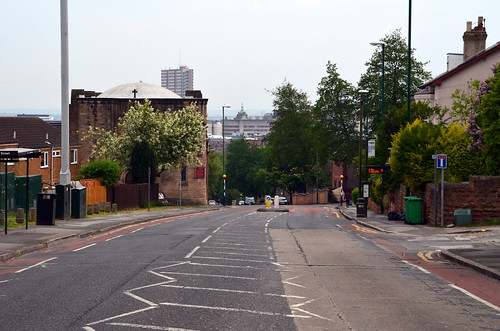building: (66, 82, 207, 212), (430, 40, 500, 216), (1, 116, 81, 195), (216, 110, 273, 145), (157, 67, 199, 100)
sky: (3, 1, 474, 105)
street: (14, 207, 461, 331)
tree: (97, 105, 198, 186), (357, 31, 423, 128), (262, 86, 315, 192), (395, 118, 468, 185), (313, 67, 360, 166), (476, 69, 500, 173), (221, 137, 262, 191)
